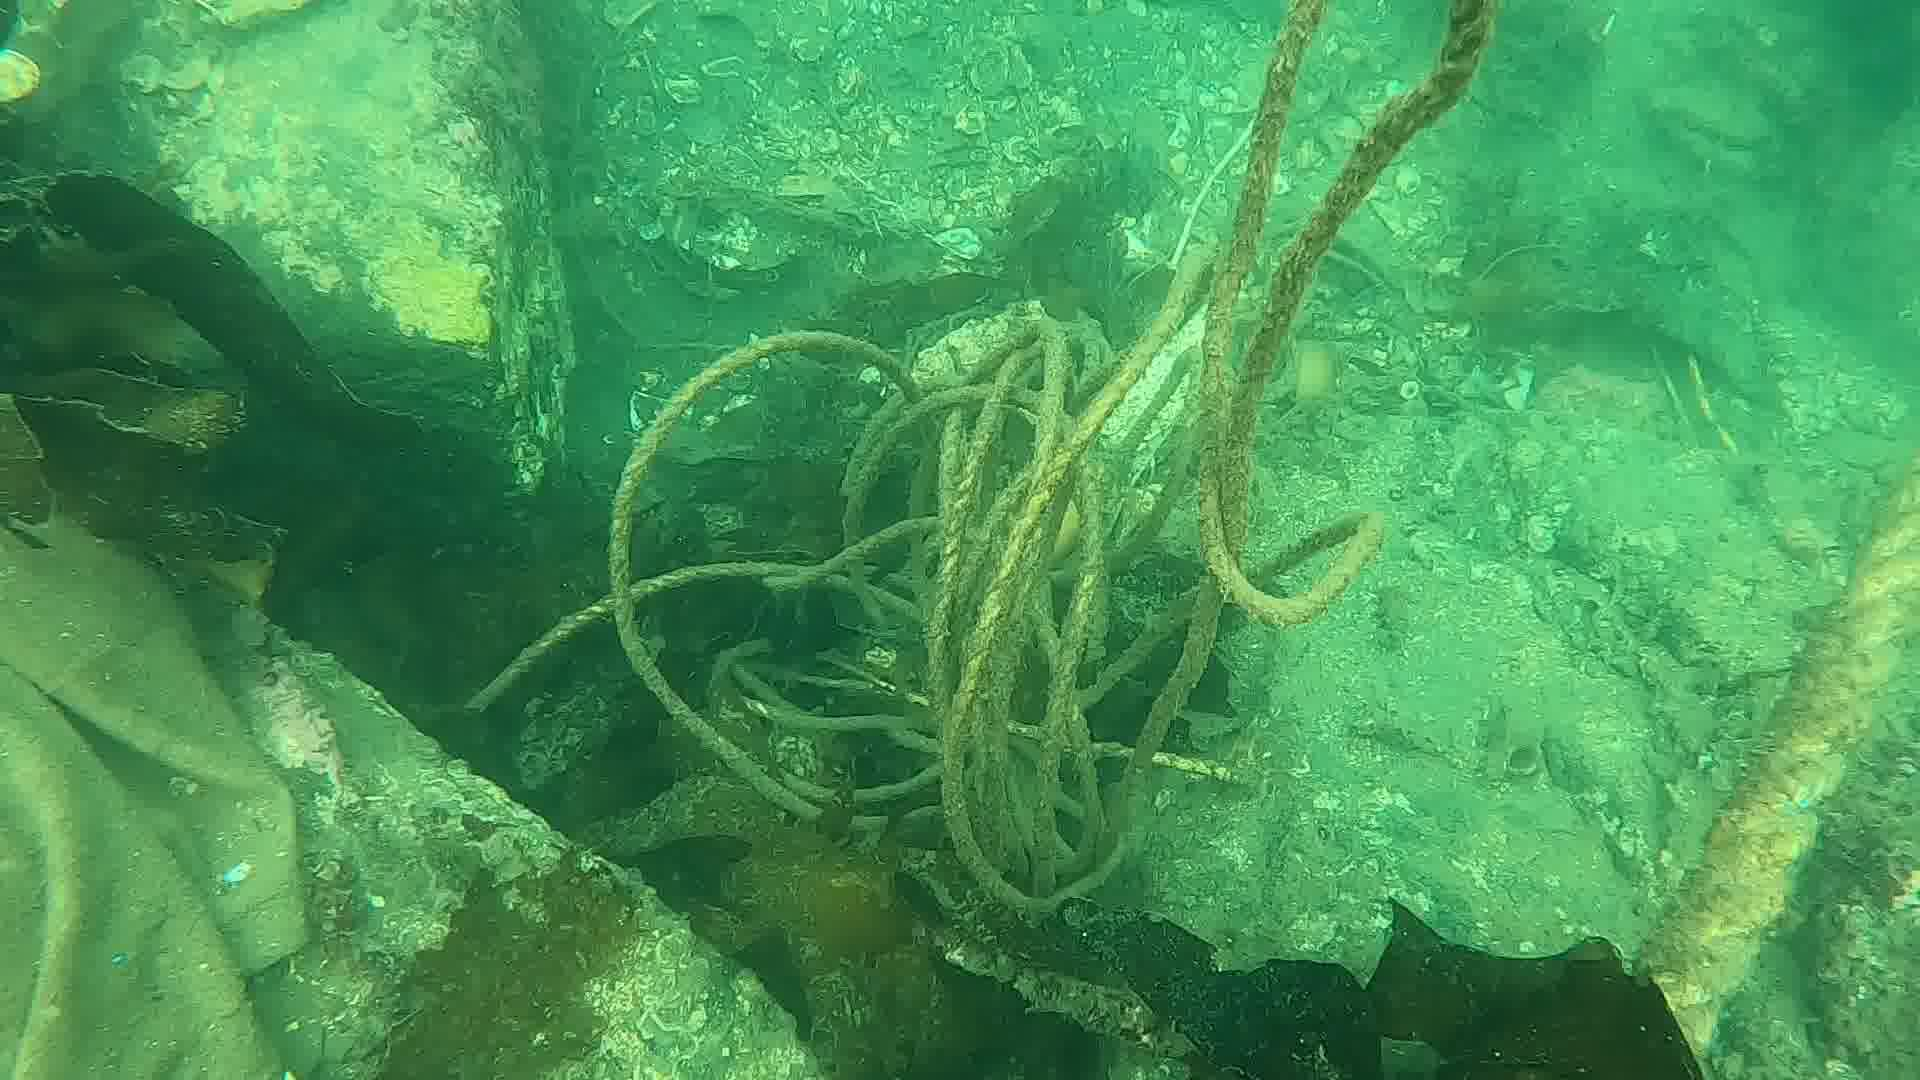rope: (1627, 459, 1920, 1080)
